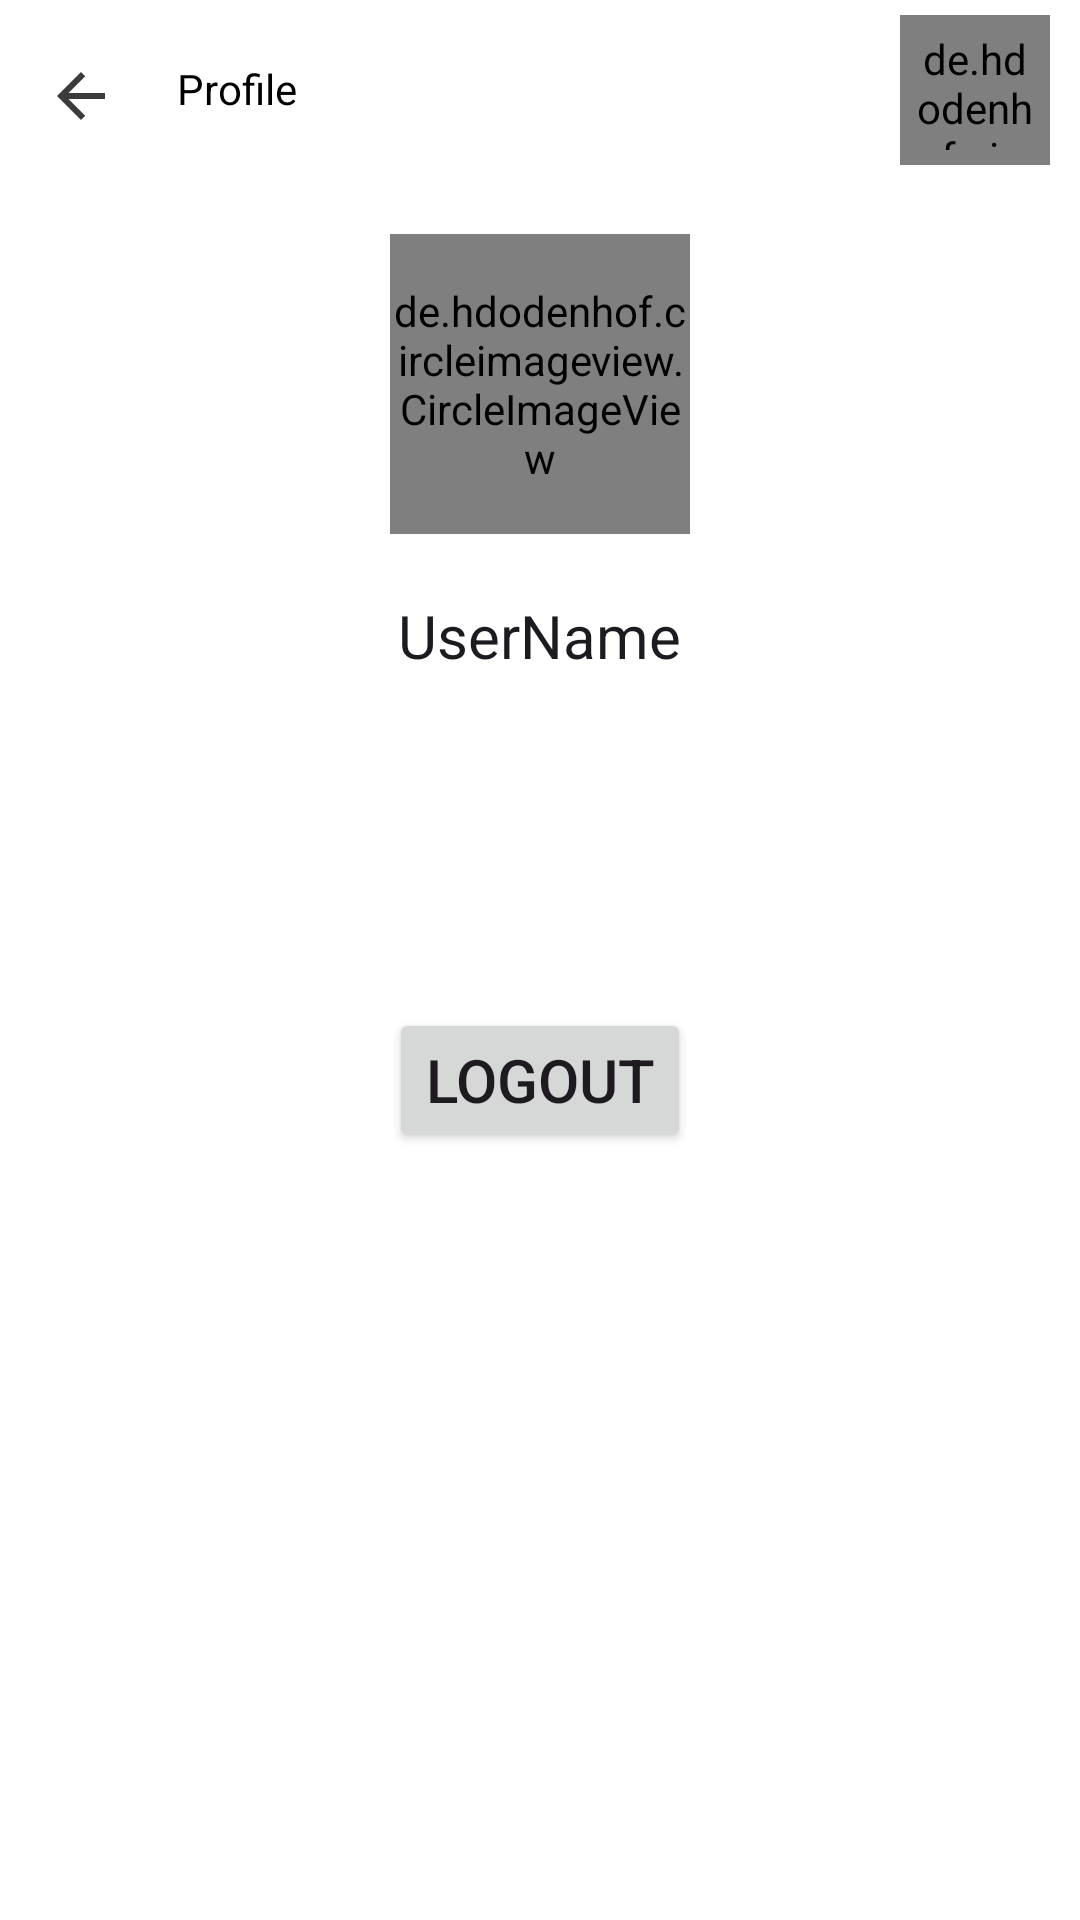

Locate icon controls on the screen. Image size 1080px x 1920px, boxes as (x1, y1, x2, y2).
arrow back: (57, 72, 105, 120)
